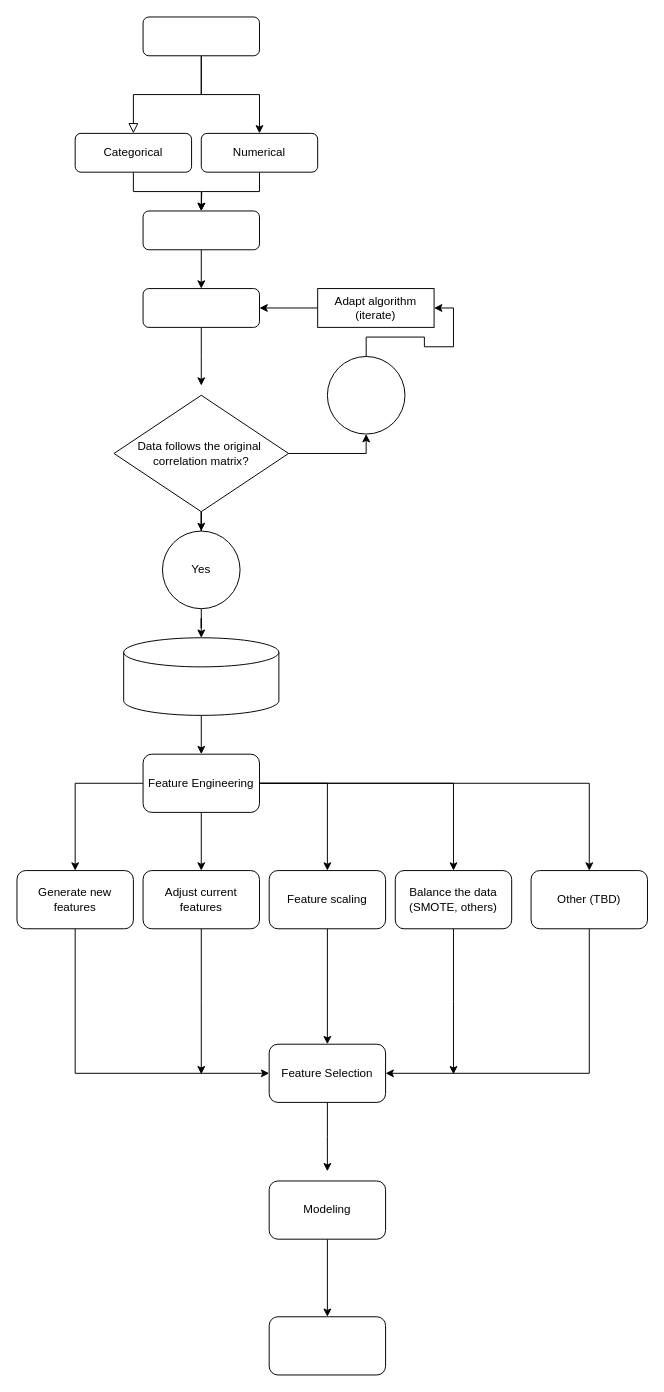
Some shapes in this 664 by 1392 pixel diagram are drawn without their labels. The centre of each missing label's shape, as x and y in pixels:
"Apply Business Rules" belongs at point 200,307.
"Data Generation" belongs at point 200,36.
"Hyperparam optimizaiton" belongs at point 327,1345.
"Merge" belongs at point 200,230.
"No" belongs at point 365,395.
"Prepared Synthetic Dataset" belongs at point 201,676.
